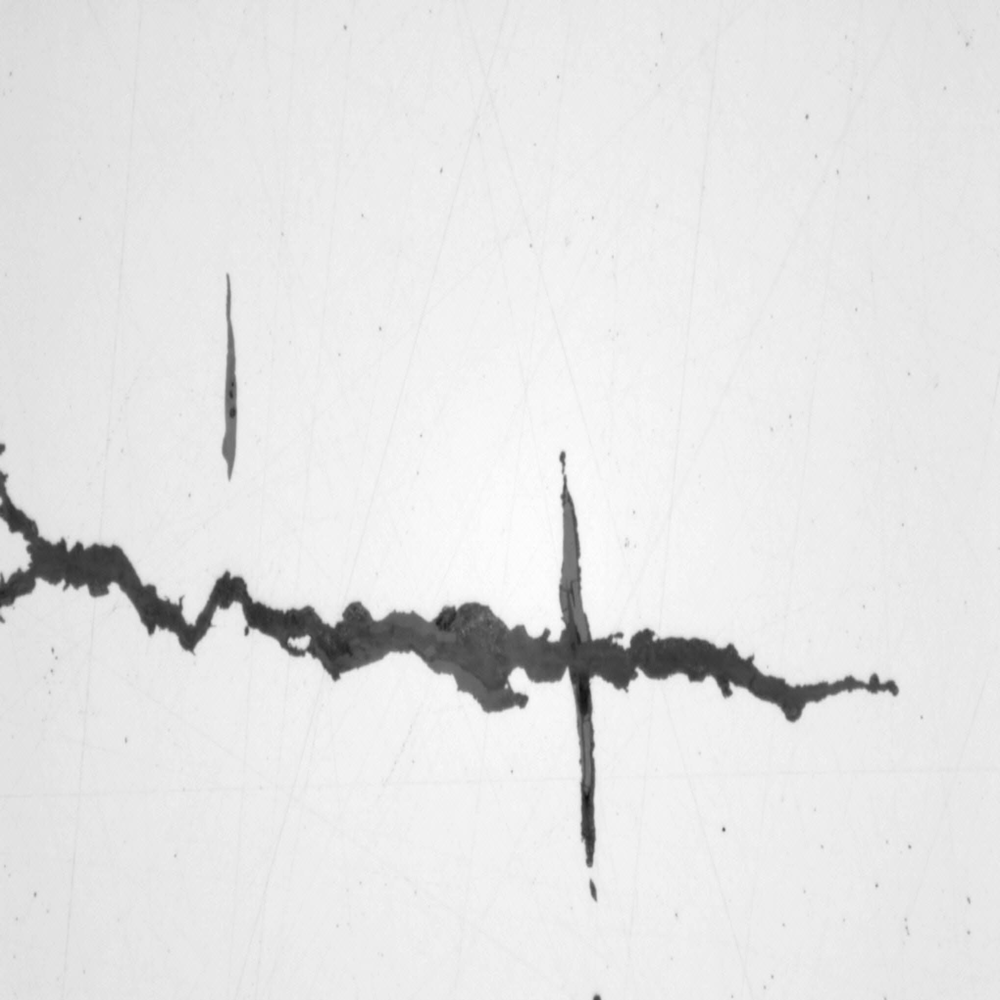crack: (8, 442, 942, 877), (207, 261, 270, 495)
